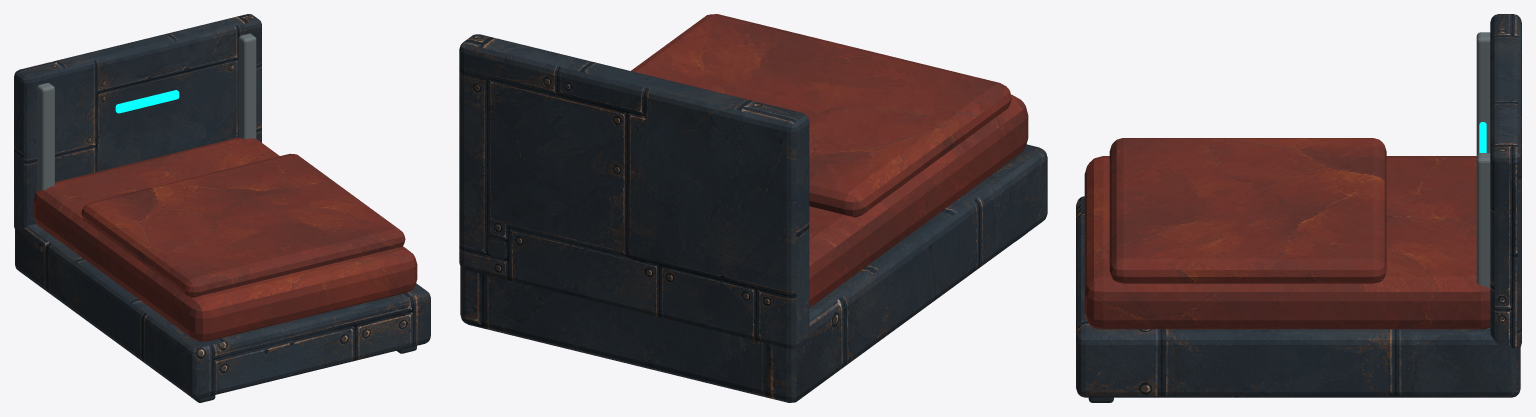
File: APT_Bed_Full_Rust.glb
The picture shows the model from 3 angles, left to right: view 1: azimuth 30°, elevation 25°; view 2: azimuth 150°, elevation 25°; view 3: azimuth 270°, elevation 25°; orthographic projection. The views are drawn at different scales.
Visible parts, largest first — view 1: APT_Bed_Full_Rust_Blanket, APT_Bed_Full_Rust_Headboard, APT_Bed_Full_Rust_Frame, APT_Bed_Full_Rust_Mattress, APT_Bed_Full_Rust_HeadTrim_0.68, APT_Bed_Full_Rust_HeadTrim_-0.68, APT_Bed_Full_Rust_HeadLight; view 2: APT_Bed_Full_Rust_Headboard, APT_Bed_Full_Rust_Frame, APT_Bed_Full_Rust_Blanket, APT_Bed_Full_Rust_Mattress; view 3: APT_Bed_Full_Rust_Blanket, APT_Bed_Full_Rust_Mattress, APT_Bed_Full_Rust_Frame, APT_Bed_Full_Rust_Headboard, APT_Bed_Full_Rust_HeadTrim_0.68, APT_Bed_Full_Rust_HeadTrim_-0.68.
Part boxes in pixels (bbox=[...]): APT_Bed_Full_Rust_Blanket: bbox=[81, 153, 405, 297]; APT_Bed_Full_Rust_Headboard: bbox=[14, 14, 261, 231]; APT_Bed_Full_Rust_Frame: bbox=[15, 223, 430, 398]; APT_Bed_Full_Rust_Mattress: bbox=[33, 137, 417, 341]; APT_Bed_Full_Rust_HeadTrim_0.68: bbox=[238, 33, 256, 138]; APT_Bed_Full_Rust_HeadTrim_-0.68: bbox=[37, 83, 54, 191]; APT_Bed_Full_Rust_HeadLight: bbox=[115, 90, 179, 113]; APT_Bed_Full_Rust_Headboard: bbox=[459, 34, 809, 348]; APT_Bed_Full_Rust_Frame: bbox=[460, 144, 1047, 402]; APT_Bed_Full_Rust_Blanket: bbox=[631, 14, 1011, 217]; APT_Bed_Full_Rust_Mattress: bbox=[809, 94, 1028, 307]; APT_Bed_Full_Rust_Blanket: bbox=[1109, 138, 1386, 283]; APT_Bed_Full_Rust_Mattress: bbox=[1084, 156, 1490, 329]; APT_Bed_Full_Rust_Frame: bbox=[1076, 196, 1520, 397]; APT_Bed_Full_Rust_Headboard: bbox=[1490, 14, 1521, 349]; APT_Bed_Full_Rust_HeadTrim_0.68: bbox=[1476, 153, 1490, 328]; APT_Bed_Full_Rust_HeadTrim_-0.68: bbox=[1476, 32, 1490, 155].
Bounding box in the file's own units: 1.62 × 1.34 × 2.12.
5 materials, 2 textured.
